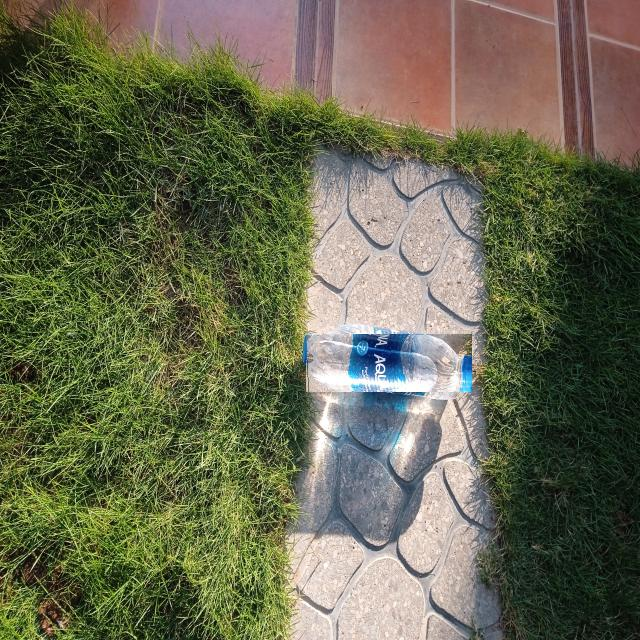Plastic: (305, 334, 472, 392)
